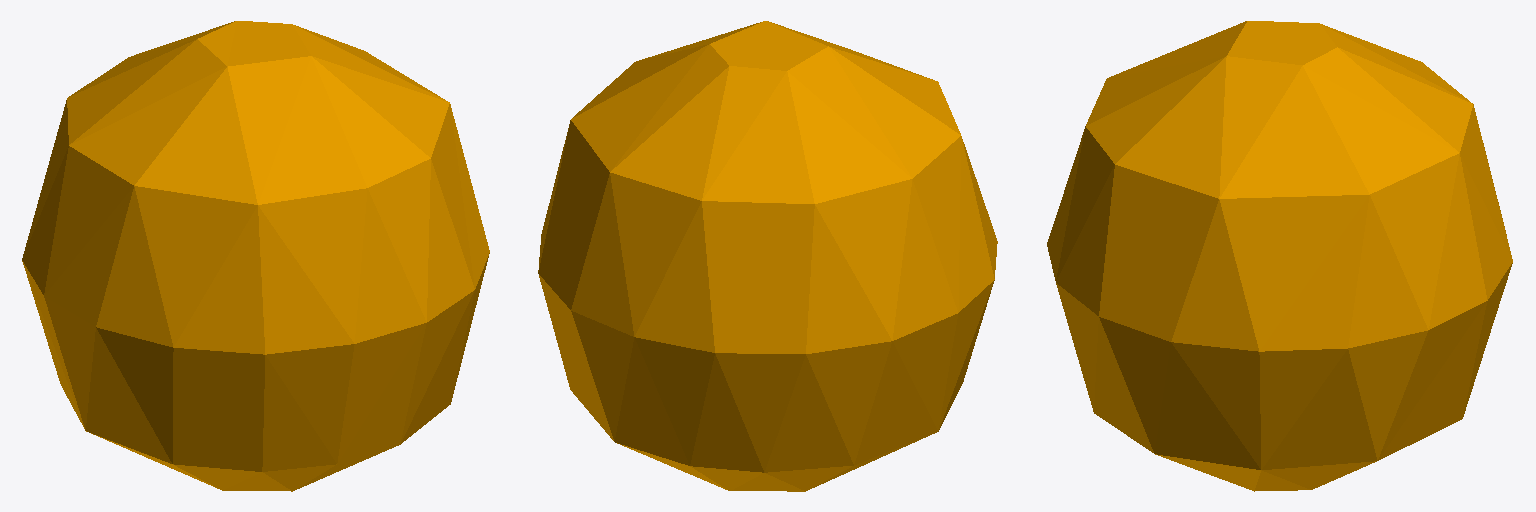
robot.urdf — doughBall:
<?xml version="1.0"?>
<robot name="doughBall">
  <link name="body">
    <inertial>
        <origin rpy="0 0 0" xyz="0 0 0"/>
        <mass value="0.03"/>
        <inertia ixx="4.4e-5" ixy="0" ixz="0" iyy="0" iyz="0" izz="4.4e-5"/>
    </inertial>
    <visual>
      <geometry>
        <mesh filename="doughBall.obj"/>
      </geometry>
    </visual>
    <collision>
      <geometry>
        <mesh filename="doughBall.obj"/>
      </geometry>
      <surface>
           <bounce restitution_coefficient = "0.1"/>
      </surface>
    </collision>
  </link>
</robot>

--- Render facts (derived) ---
3 views of the same robot in one strip: view 1: azimuth 30°, elevation 25°; view 2: azimuth 150°, elevation 25°; view 3: azimuth 270°, elevation 25° (orthographic).
Robot: doughBall — 1 links, 0 joints (none); root link body; default pose: all joints at 0.
Visible links, largest first — view 1: body; view 2: body; view 3: body.
Boxes of the visible links, <box> form: body: <box>22,21,489,491</box>; body: <box>538,21,997,491</box>; body: <box>1047,21,1512,491</box>.
Bounding box of the posed robot: 0.0418 × 0.0418 × 0.0418 m (x, y, z).
Meshes: 1 distinct files referenced, 1 mesh visuals loaded (1 OBJ).
